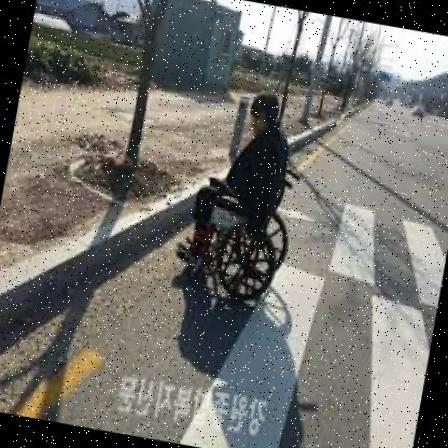wheel: (169, 81, 309, 305)
